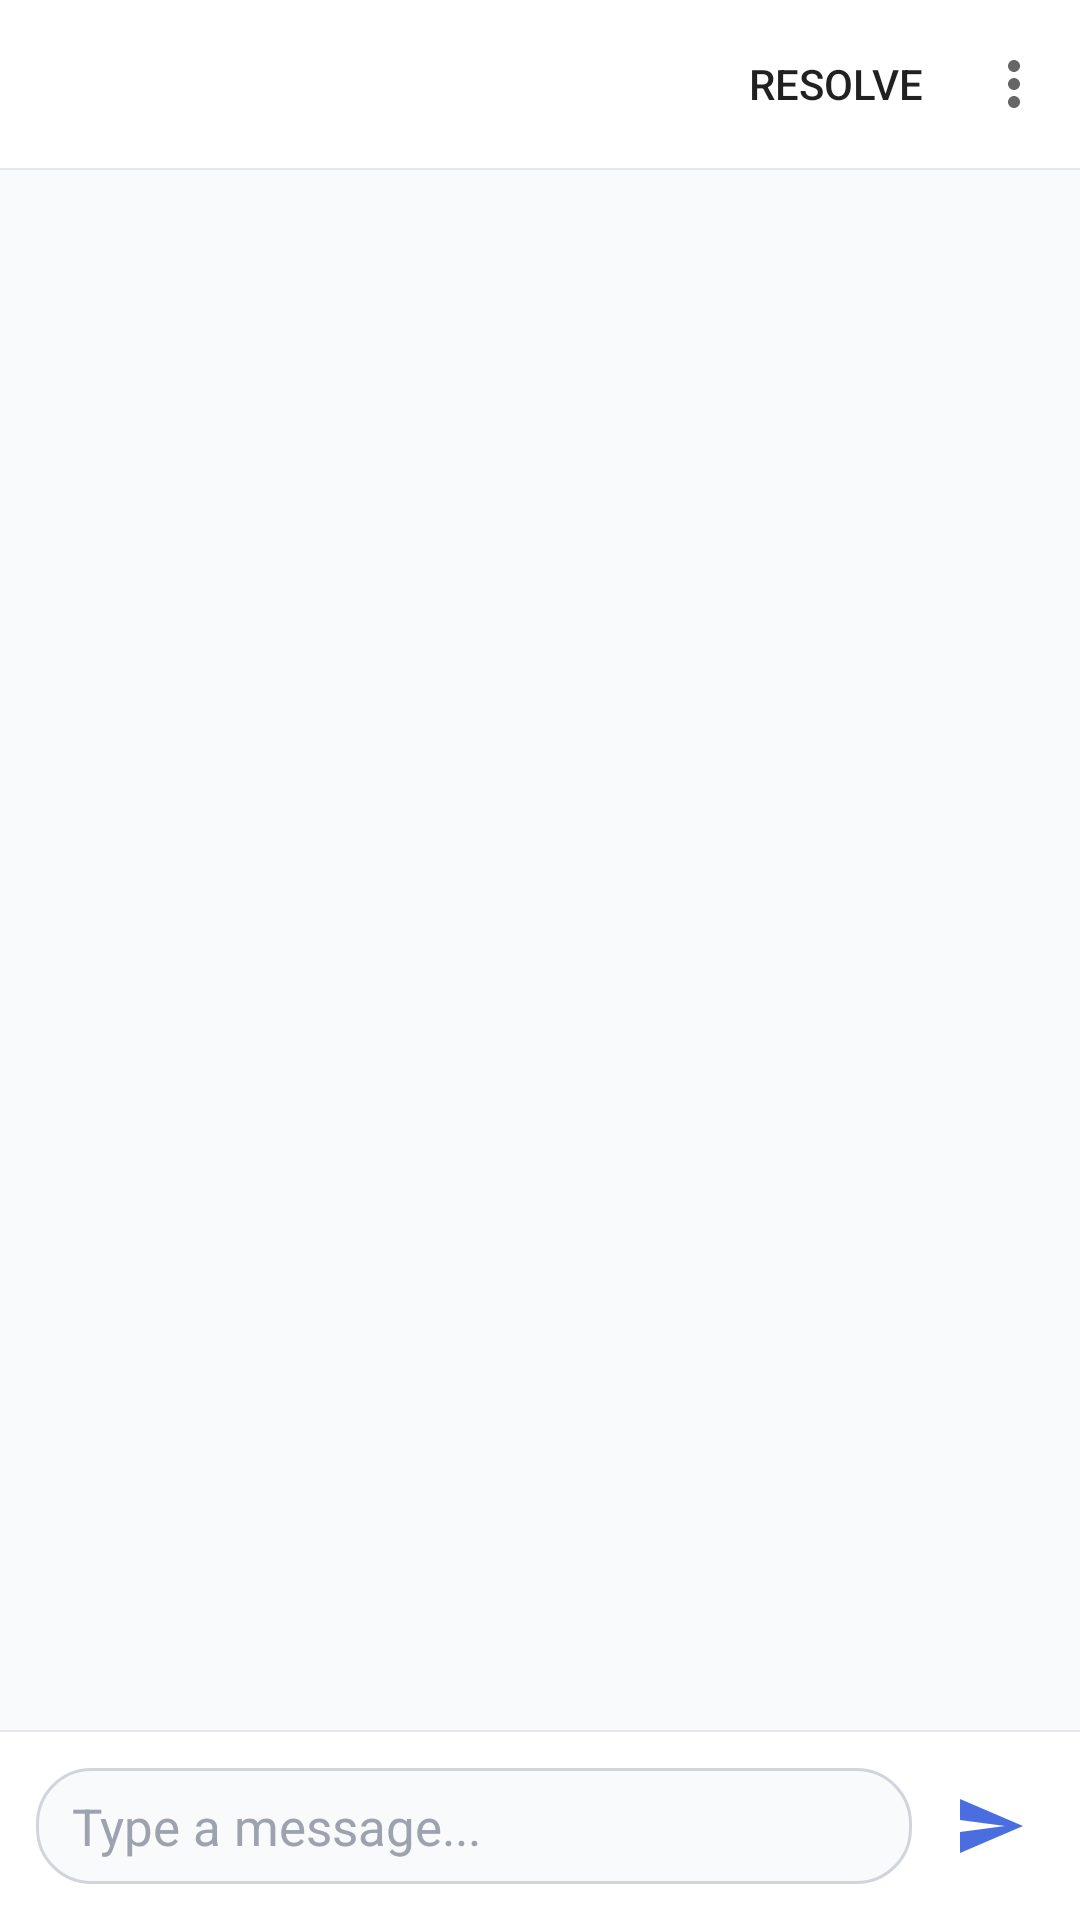

Icons on this 1080px x 1920px Android screen, each with its box as bbox(x1, y1, x2, y2):
Send: bbox(960, 1799, 1023, 1853)
